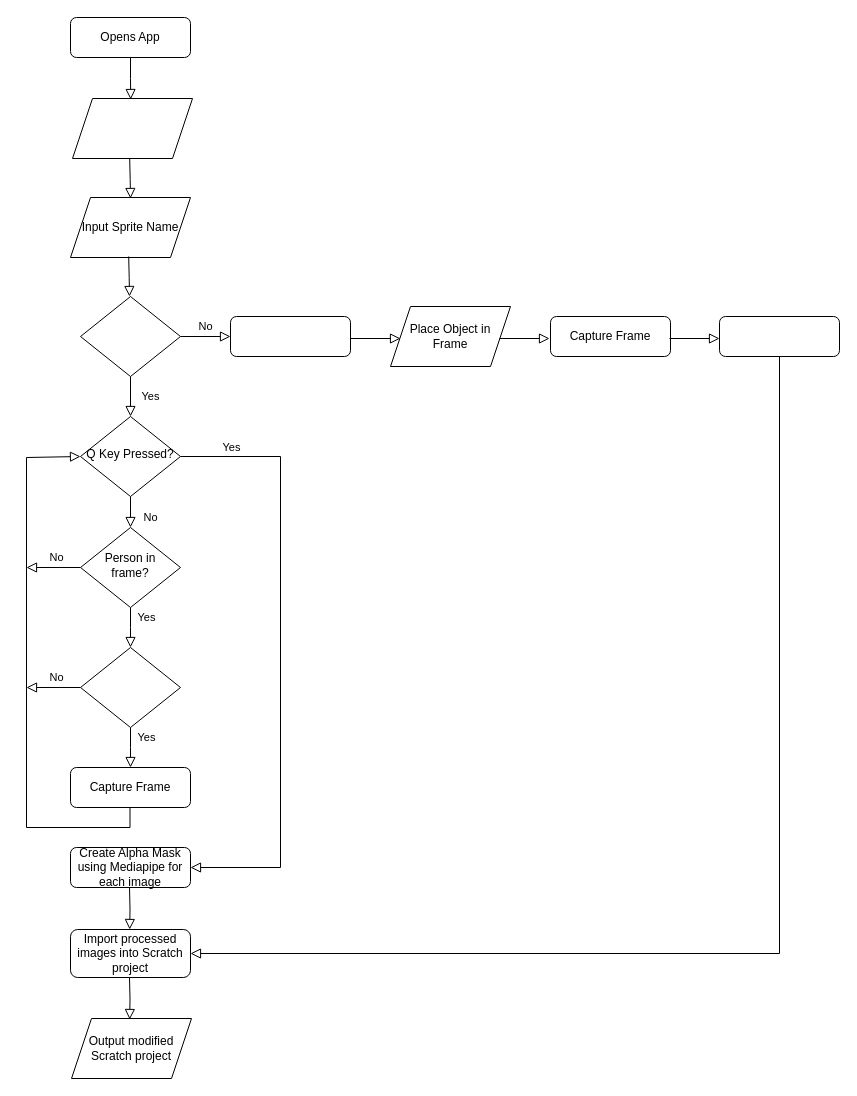
Some shapes in this 857 by 1096 pixel diagram are drawn without their labels. Each missing label, with the centre of its shape:
"Capture Background" belongs at [290,336].
"For Person?" belongs at [130,336].
"Input Scratch Project file path" belongs at [132,128].
"Person still?" belongs at [130,687].
"Remove Background from foreground" belongs at [779,336].
